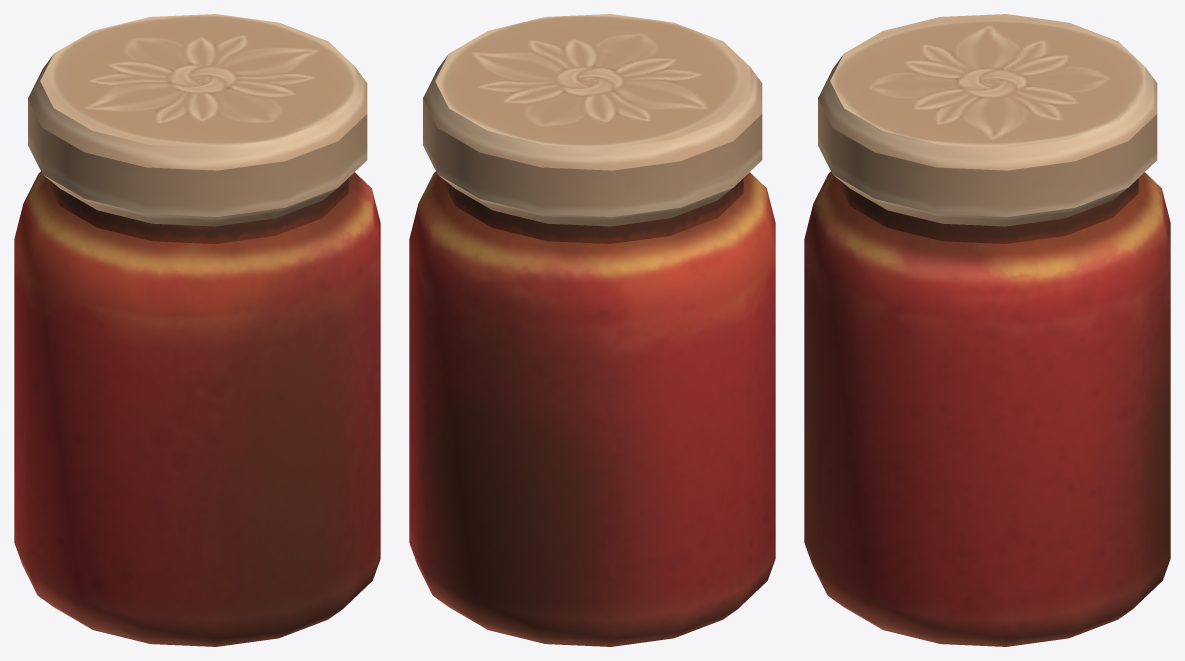
File: SM_Glass_Jar_Red.fbx
The picture shows the model from 3 angles, left to right: view 1: azimuth 30°, elevation 25°; view 2: azimuth 150°, elevation 25°; view 3: azimuth 270°, elevation 25°; orthographic projection.
Parts seen in each view (by area): view 1: SM_Glass_Jar_Red_LOD0; view 2: SM_Glass_Jar_Red_LOD0; view 3: SM_Glass_Jar_Red_LOD0.
Part boxes in pixels (box(x1,y1,x2,y2)): SM_Glass_Jar_Red_LOD0: box(14, 14, 380, 646); SM_Glass_Jar_Red_LOD0: box(409, 14, 775, 646); SM_Glass_Jar_Red_LOD0: box(804, 14, 1170, 646).
Size of the model in its own units: 17.98 by 17.88 by 26.87.
1 material, 1 textured.
